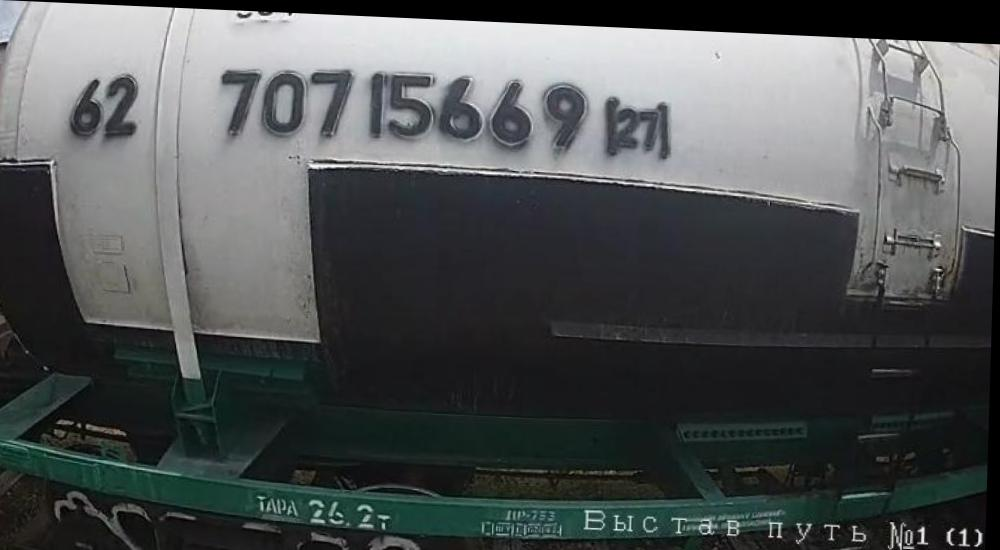Wagon-number: (213, 56, 590, 150)
